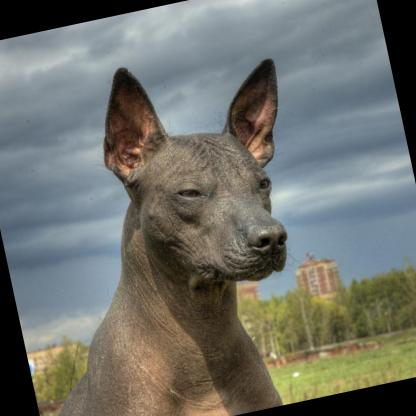Mexican_hairless: (0, 30, 345, 416)
